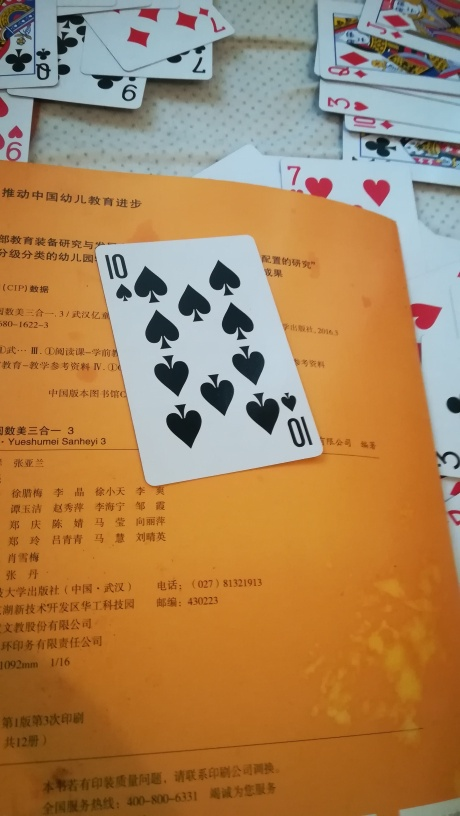ht 10: (94, 234, 326, 488)
